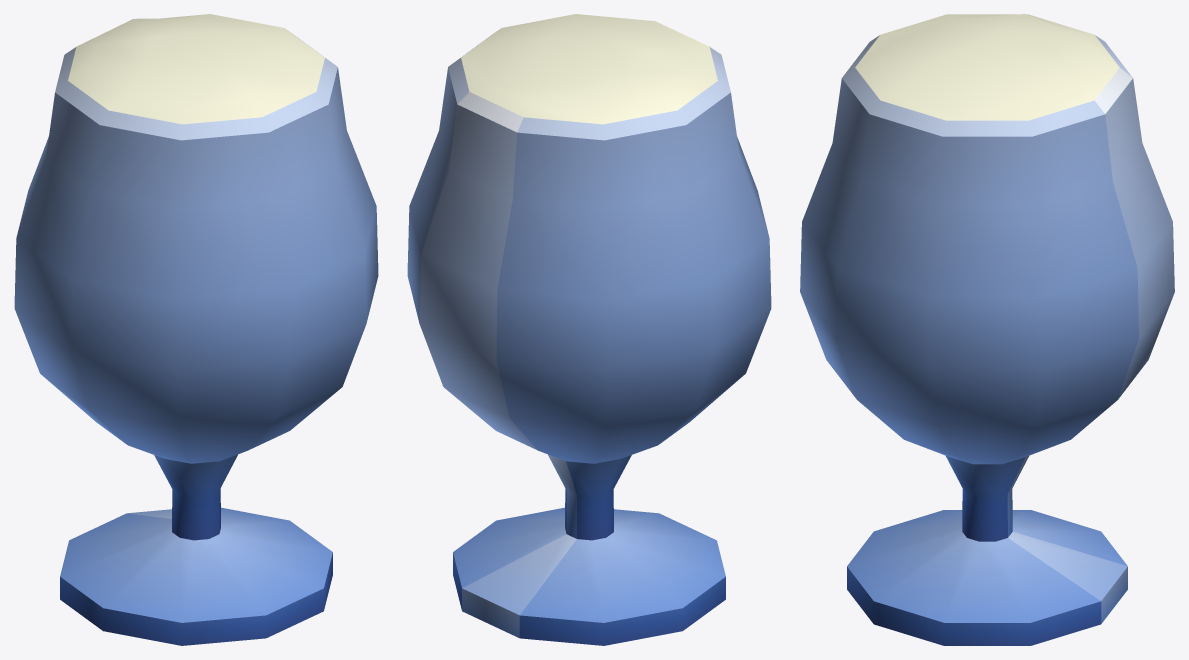
File: m_BelgianIPABeer01.fbx
The picture shows the model from 3 angles, left to right: view 1: azimuth 30°, elevation 25°; view 2: azimuth 150°, elevation 25°; view 3: azimuth 270°, elevation 25°; orthographic projection.
Parts seen in each view (by area): view 1: m_BelgianIPABeer01; view 2: m_BelgianIPABeer01; view 3: m_BelgianIPABeer01.
Boxes of the visible parts, x1,y1,x2,y2 form: m_BelgianIPABeer01: [14, 14, 378, 645]; m_BelgianIPABeer01: [407, 14, 771, 645]; m_BelgianIPABeer01: [800, 14, 1174, 645].
Size of the model in its own units: 13.95 by 23.15 by 14.67.
